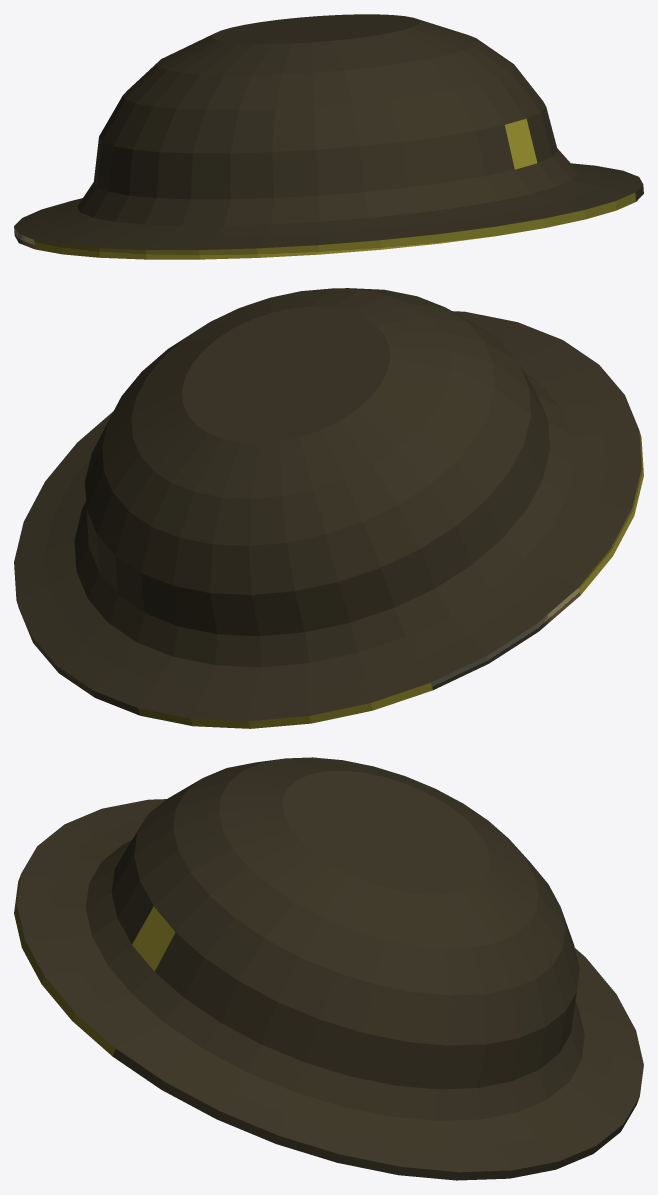
Rendered from Helmet.gltf.
3 renders of one model, top to bottom at view 1: azimuth 30°, elevation 25°; view 2: azimuth 150°, elevation 25°; view 3: azimuth 270°, elevation 25°, orthographic. The views are drawn at different scales.
Parts seen in each view (by area): view 1: Helmet; view 2: Helmet; view 3: Helmet.
Part boxes in pixels (x1=…): Helmet: x1=14, y1=14, x2=643, y2=259; Helmet: x1=14, y1=288, x2=643, y2=728; Helmet: x1=14, y1=757, x2=643, y2=1180.
Size of the model in its own units: 0.2127 by 0.1049 by 0.2047.
Materials: 1 (1 with a texture image).
